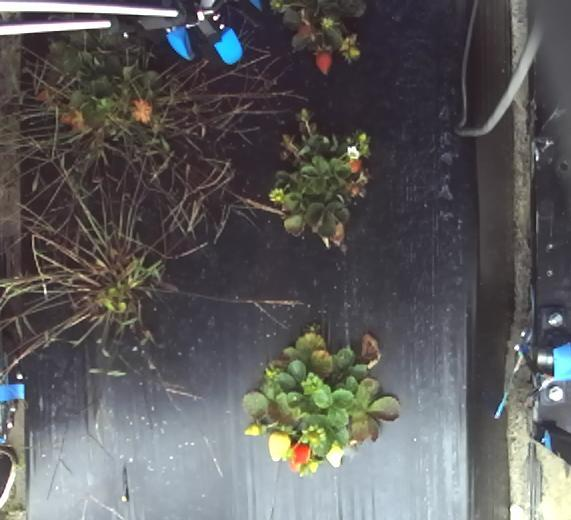mature: (287, 440, 311, 470), (313, 49, 332, 75)
